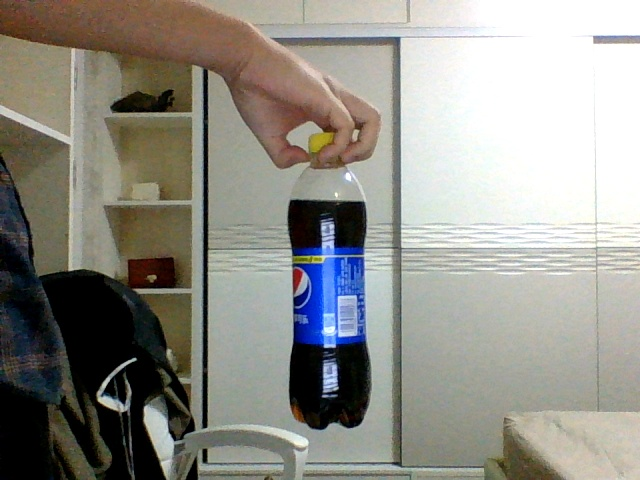Cola: (288, 130, 370, 430)
